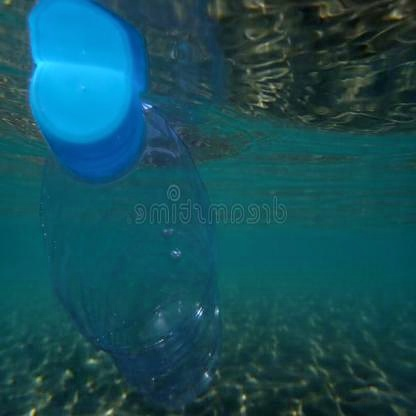pbottle: (20, 57, 231, 410)
